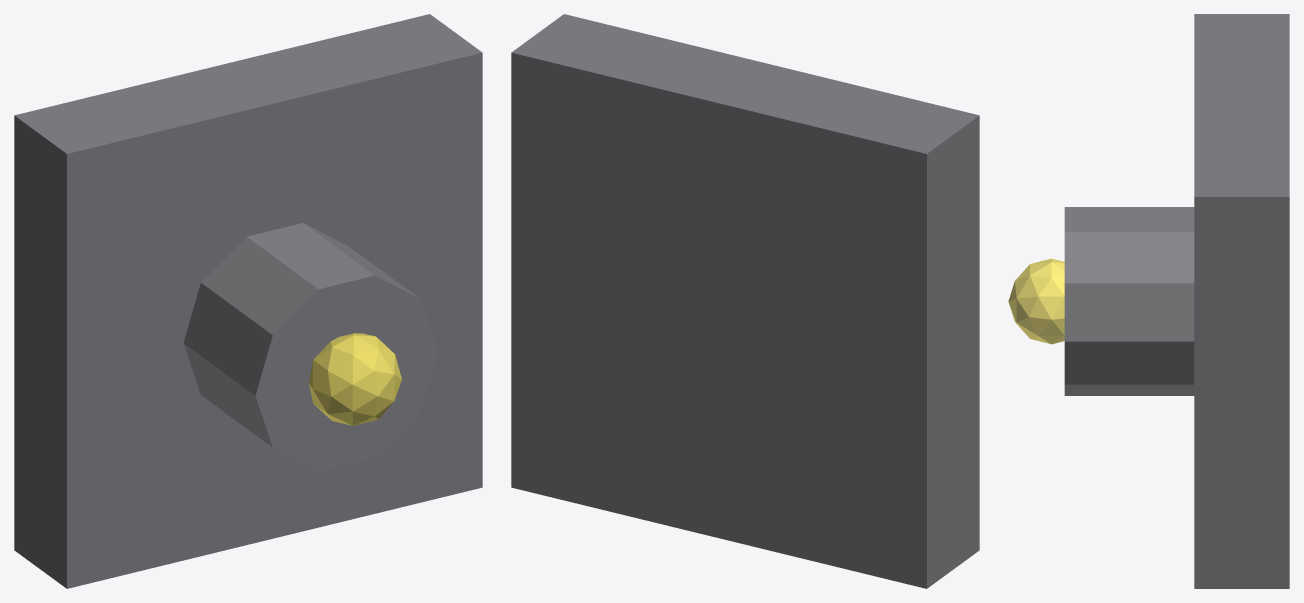
The model's file is key_socket_stone.glb.
The picture shows the model from 3 angles, left to right: view 1: azimuth 30°, elevation 25°; view 2: azimuth 150°, elevation 25°; view 3: azimuth 270°, elevation 25°; orthographic projection. The views are drawn at different scales.
Visible parts, largest first — view 1: puzzle_base, key_socket, socket_glow; view 2: puzzle_base; view 3: puzzle_base, key_socket, socket_glow.
Boxes of the visible parts, x1=… form: puzzle_base: x1=14, y1=14, x2=482, y2=588; key_socket: x1=183, y1=223, x2=438, y2=471; socket_glow: x1=309, y1=333, x2=401, y2=425; puzzle_base: x1=511, y1=14, x2=979, y2=588; puzzle_base: x1=1194, y1=14, x2=1289, y2=588; key_socket: x1=1064, y1=207, x2=1194, y2=395; socket_glow: x1=1008, y1=258, x2=1064, y2=344.
Size of the model in its own units: 1 by 1 by 0.65.
